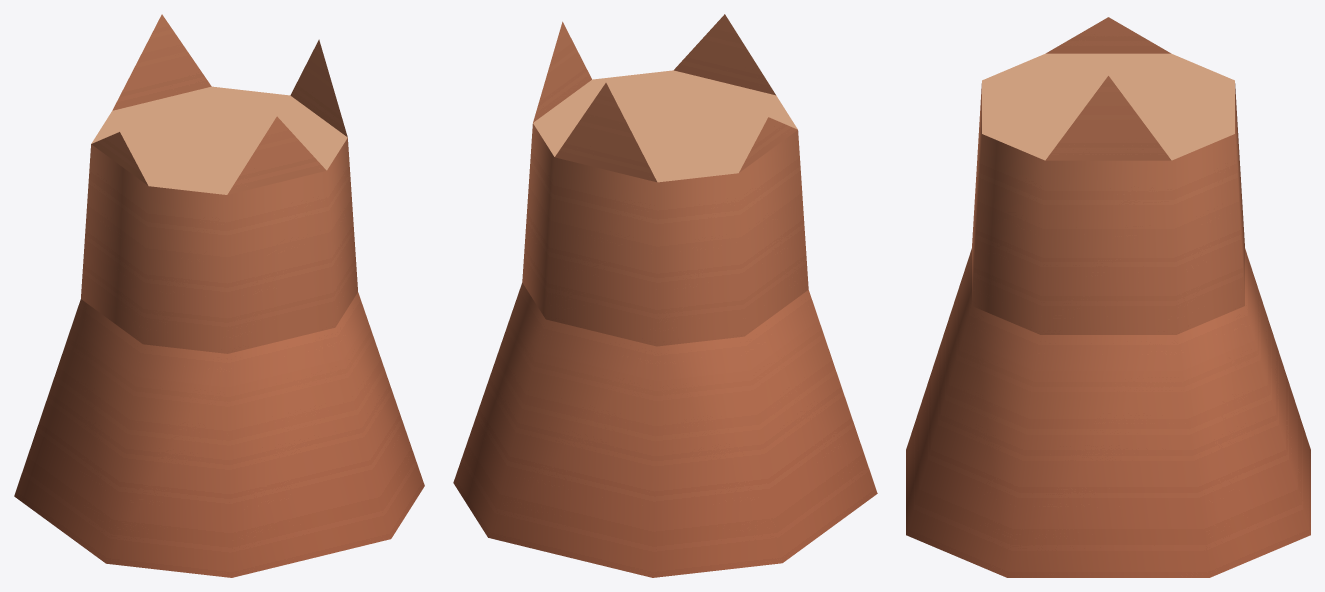
Rendered from tree-trunk.glb.
3 views of the same model, side by side, from view 1: azimuth 30°, elevation 25°; view 2: azimuth 150°, elevation 25°; view 3: azimuth 270°, elevation 25° (orthographic). The views are drawn at different scales.
Visible parts, largest first — view 1: tree-trunk; view 2: tree-trunk; view 3: tree-trunk.
Part boxes in pixels (<box>): tree-trunk: <box>14,14,424,577</box>; tree-trunk: <box>453,14,877,577</box>; tree-trunk: <box>906,17,1310,577</box>.
Size of the model in its own units: 0.2 by 0.2608 by 0.2.
1 material, 1 textured.
